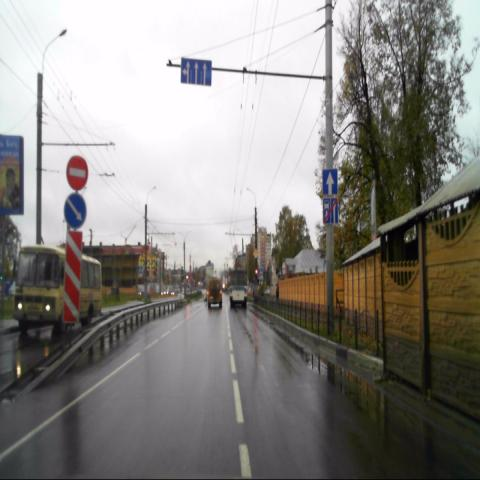3_1: (67, 156, 88, 191)
5_12: (322, 197, 337, 224)
